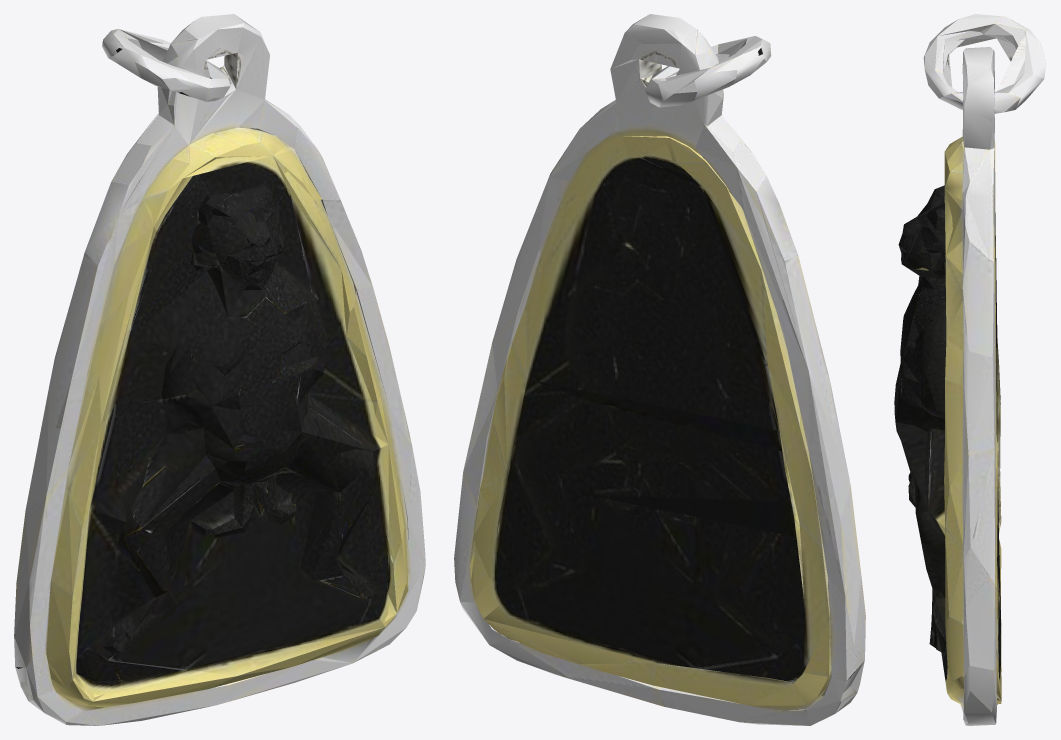
The model's file is e4praicase.glb.
3 views of the same model, side by side, from view 1: azimuth 30°, elevation 25°; view 2: azimuth 150°, elevation 25°; view 3: azimuth 270°, elevation 25° (orthographic). The views are drawn at different scales.
Visible parts, largest first — view 1: e4praicase_near, e4praicase_far; view 2: e4praicase_far, e4praicase_near; view 3: e4praicase_near, e4praicase_far.
Boxes of the visible parts, x1,y1,x2,y2 form: e4praicase_near: (14, 14, 425, 725); e4praicase_far: (20, 29, 425, 725); e4praicase_far: (460, 43, 857, 718); e4praicase_near: (454, 14, 865, 725); e4praicase_near: (894, 14, 1046, 725); e4praicase_far: (895, 24, 1025, 724).
Bounding box in the file's own units: 0.0277 × 0.0449 × 0.0101.
2 materials, 2 textured.
